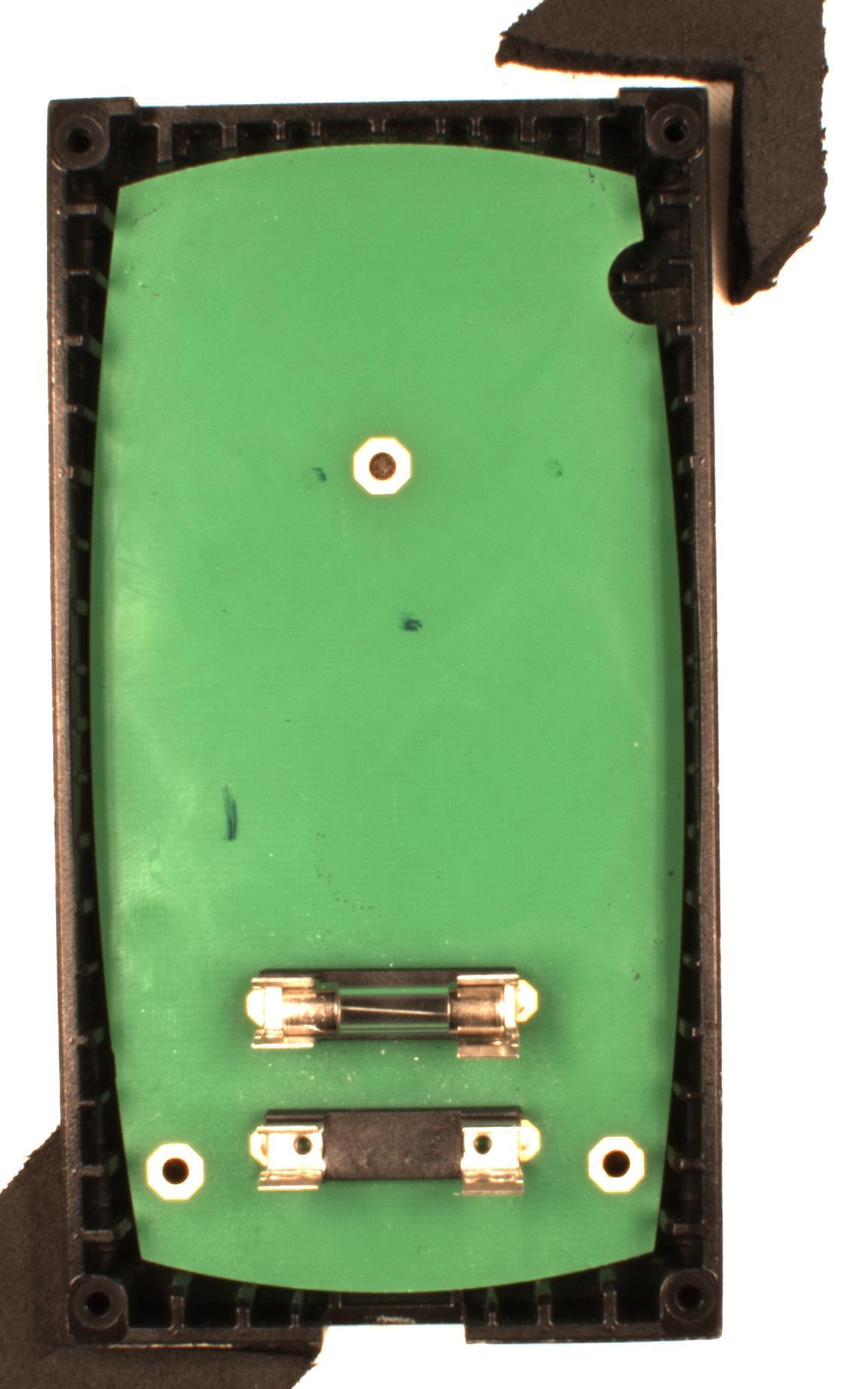Linijsko Ostecene: (221, 783, 240, 843)
Nepostojanje osiguraca: (249, 1106, 542, 1197)
Tockasto Ostecenje: (397, 612, 425, 632), (545, 460, 563, 478), (311, 466, 328, 483)
